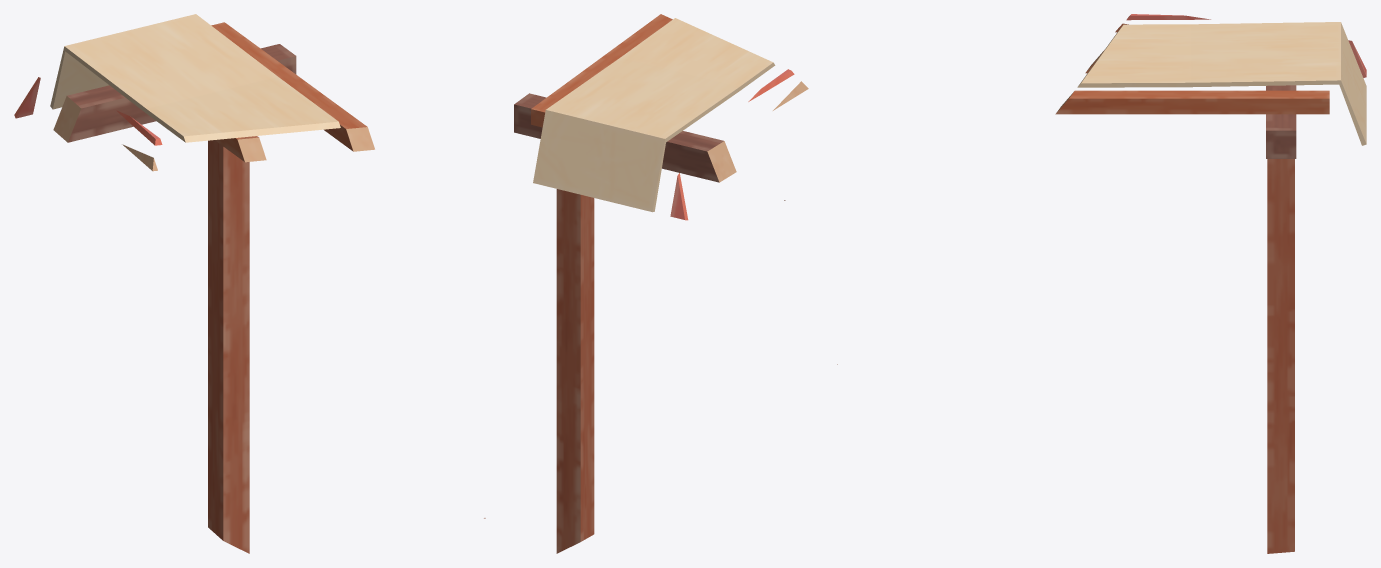
File: pergola_s03.fbx
The picture shows the model from 3 angles, left to right: view 1: azimuth 30°, elevation 25°; view 2: azimuth 150°, elevation 25°; view 3: azimuth 270°, elevation 25°; orthographic projection. The views are drawn at different scales.
Visible parts, largest first — view 1: pergola_s03; view 2: pergola_s03; view 3: pergola_s03.
Part boxes in pixels (box(x1,y1,x2,y2)): pergola_s03: box(14, 14, 485, 553); pergola_s03: box(514, 14, 808, 553); pergola_s03: box(837, 14, 1366, 553).
Size of the model in its own units: 3.47 by 7.45 by 7.64.
